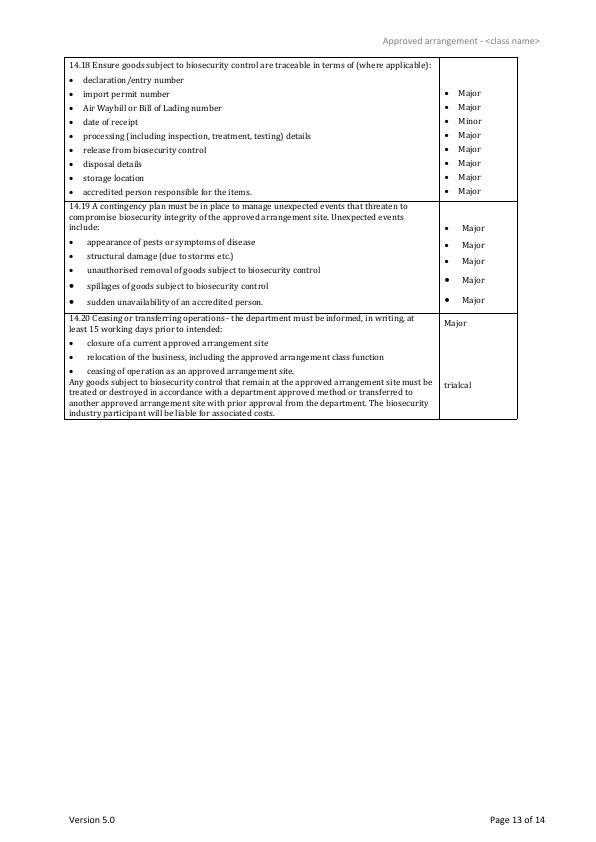table: (61, 54, 522, 424)
